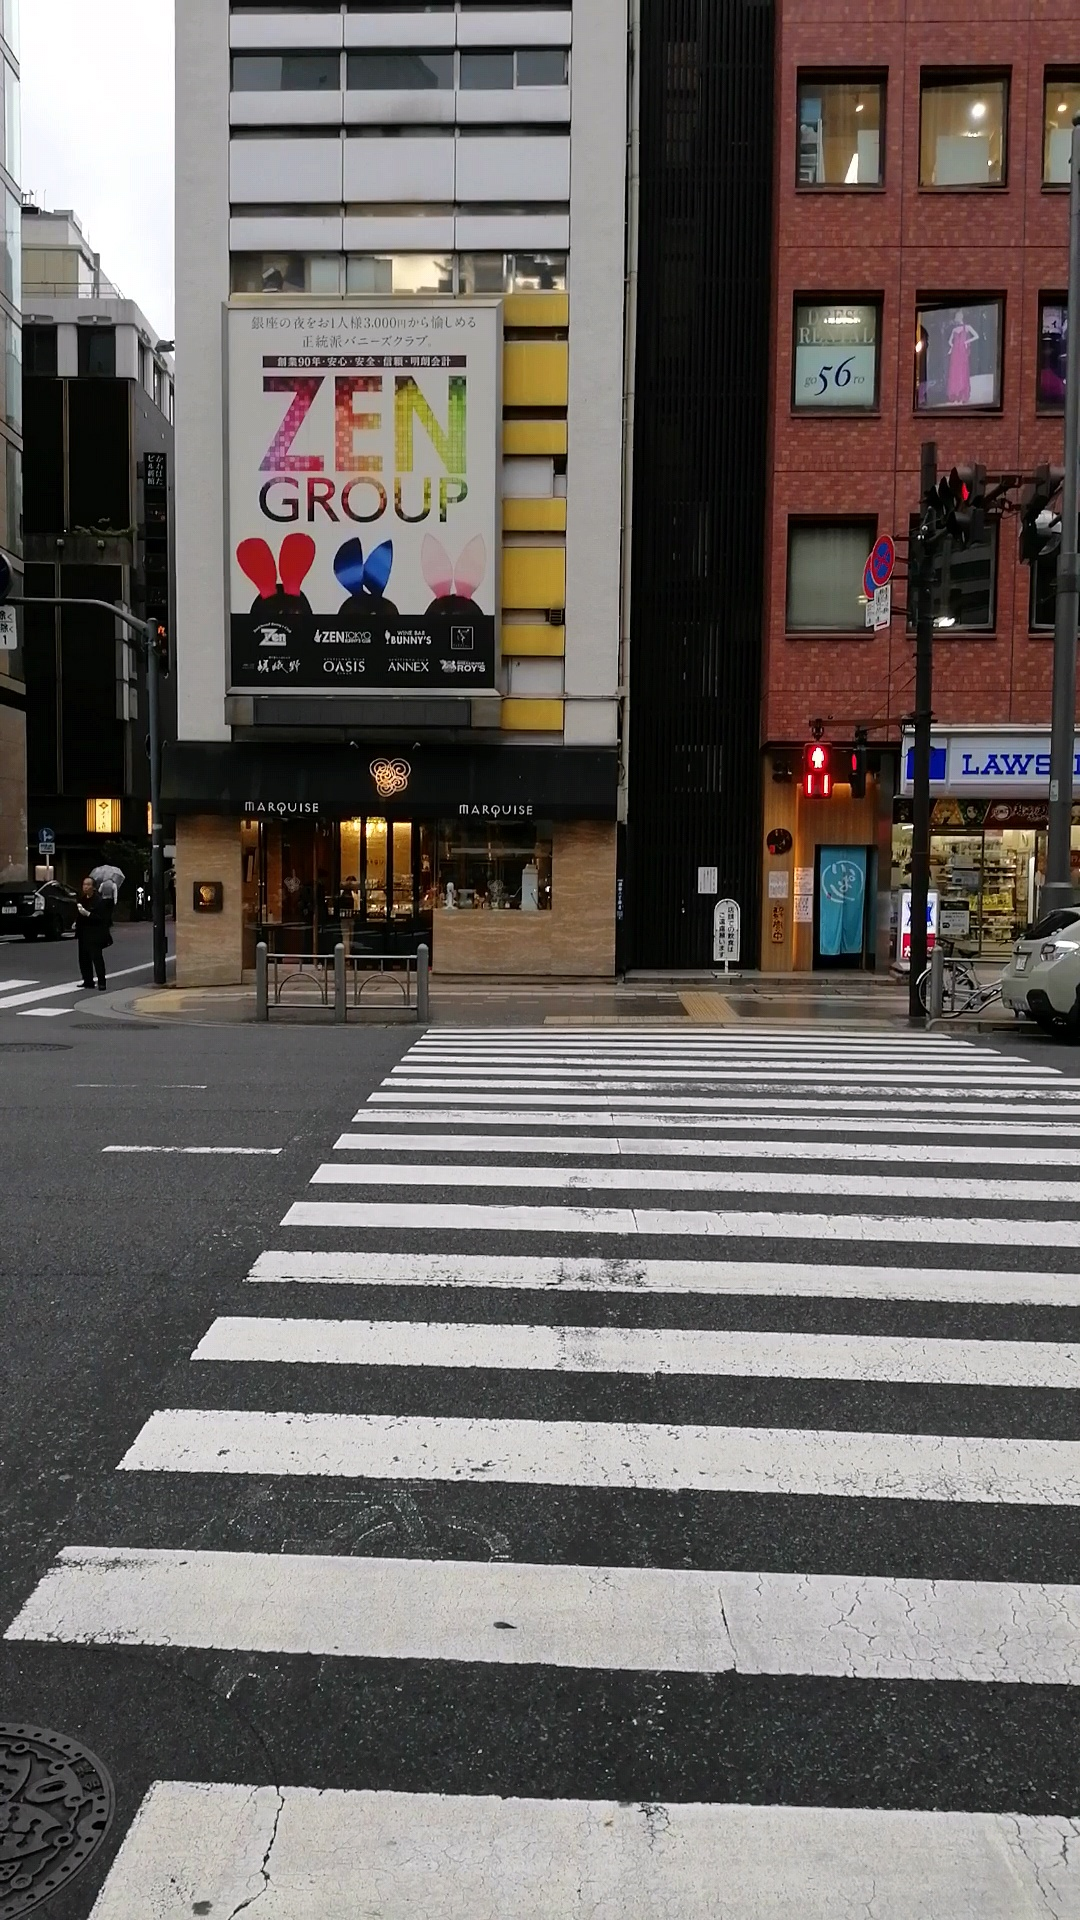red: (802, 741, 833, 799), (847, 746, 865, 799)
